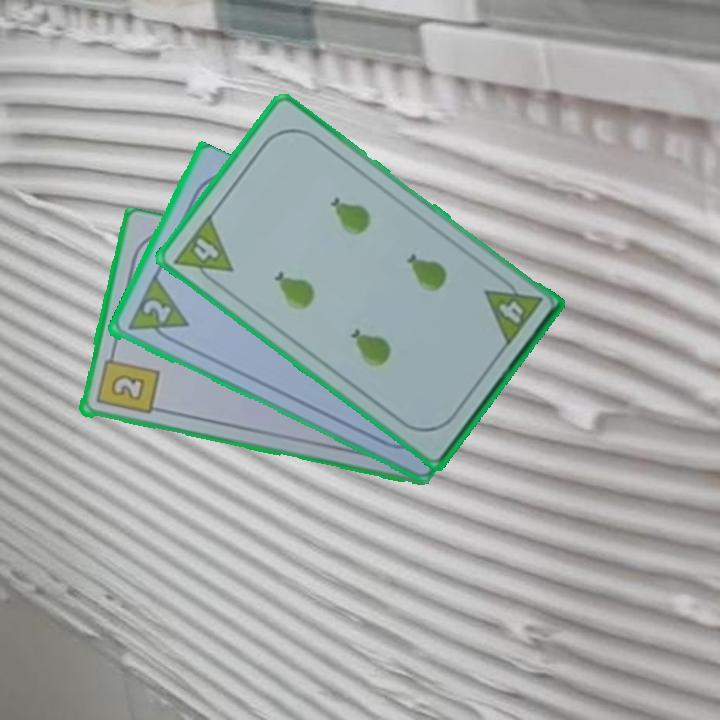2b: (92, 347, 161, 418)
2p: (123, 274, 191, 348)
4p: (170, 211, 236, 291), (480, 271, 545, 349)
